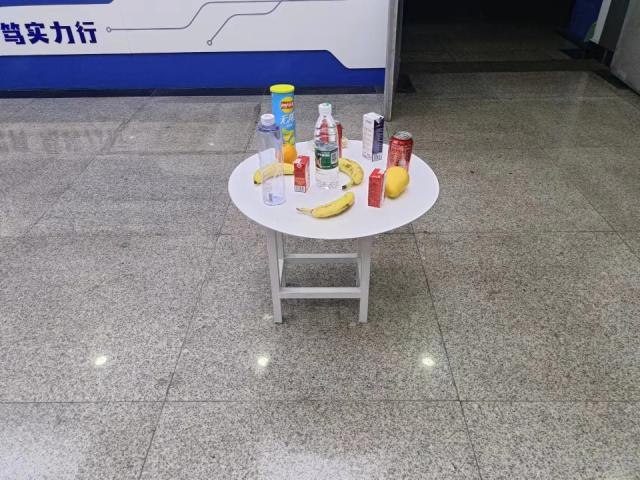Canned_drinks: (387, 132, 416, 173)
bottle: (255, 113, 288, 208), (314, 104, 340, 191)
cylinder: (269, 83, 297, 145)
drink_box: (361, 111, 385, 162), (369, 168, 386, 208), (294, 155, 311, 192)
